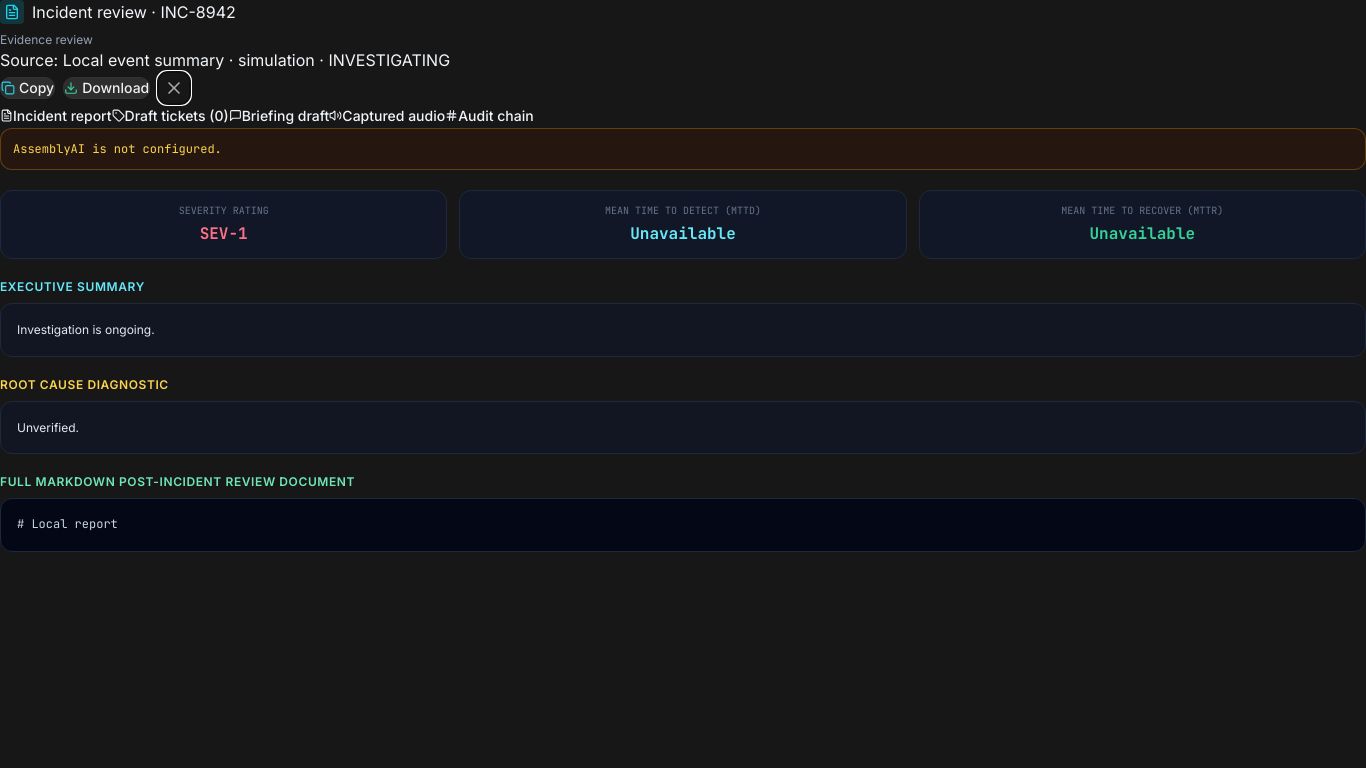
Test: reports playback rejection without starting simulated replay
Click the button "Captured audio" at (387,116), box [329,106,445,126]
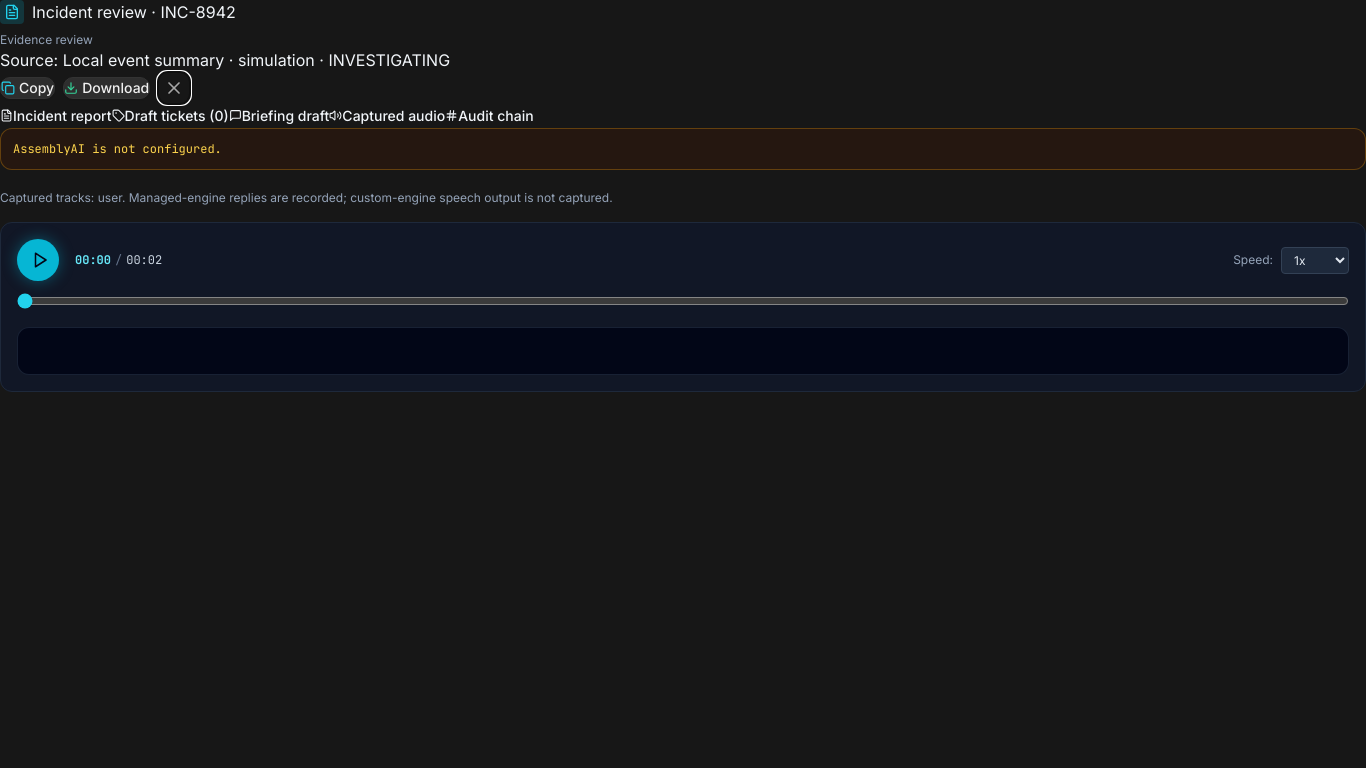
Result: the button named "Play recording" is enabled
Click the button named "Play recording" at (38,260), box [17,239,59,281]
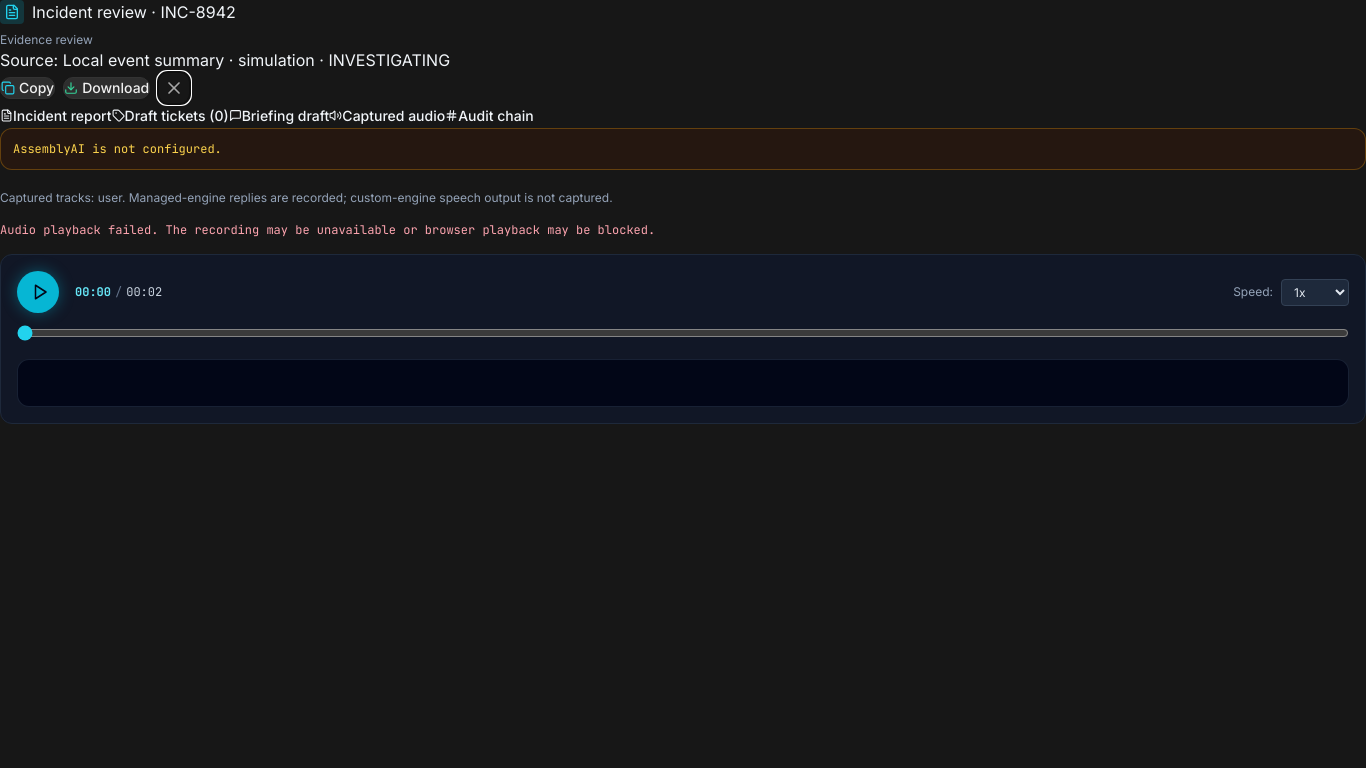
Result: the 2nd message shows "Audio playback failed" at [0,222,655,238]
